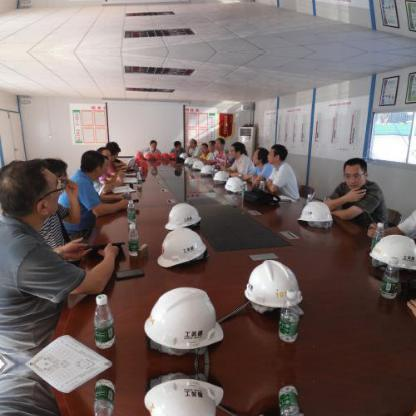head: (0, 159, 59, 228), (339, 154, 370, 191), (78, 148, 107, 181), (266, 141, 288, 165), (101, 140, 120, 162), (251, 145, 269, 167), (227, 138, 246, 158), (212, 136, 224, 153), (170, 139, 182, 154), (146, 138, 159, 151), (199, 138, 208, 154), (186, 135, 196, 149), (207, 139, 214, 154)
